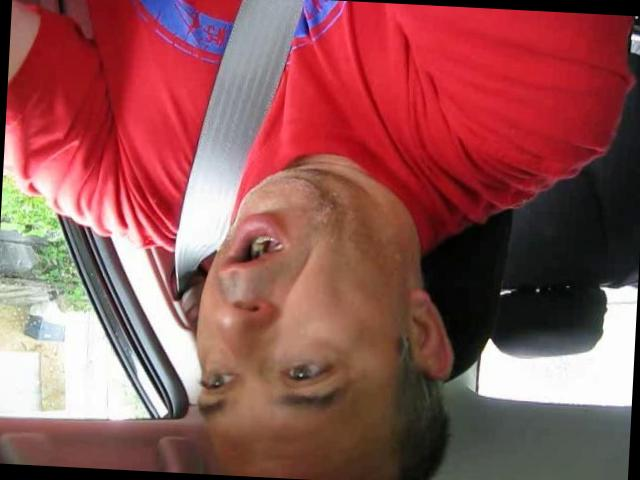eye_open: (278, 352, 340, 390), (198, 366, 238, 398)
face: (185, 172, 391, 442)
mouth_open: (218, 212, 294, 282)
